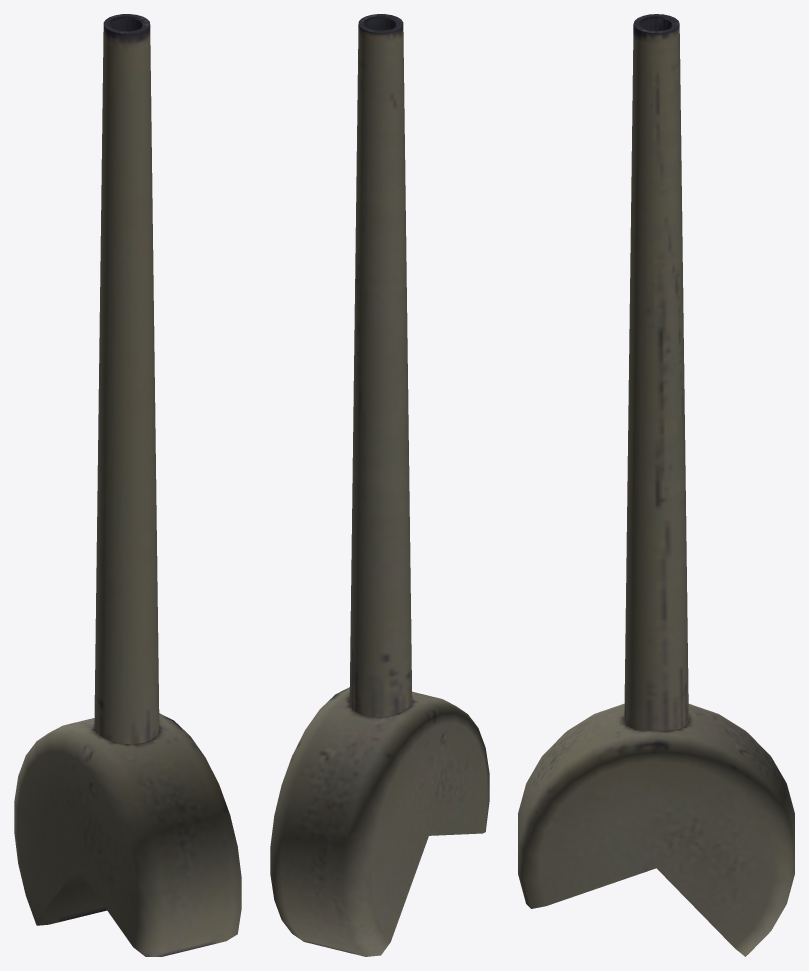
Rendered from Gun_06.glb.
3 views of the same model, side by side, from view 1: azimuth 30°, elevation 25°; view 2: azimuth 150°, elevation 25°; view 3: azimuth 270°, elevation 25° (orthographic). The views are drawn at different scales.
Parts seen in each view (by area): view 1: set_0_group_0; view 2: set_0_group_0; view 3: set_0_group_0.
Boxes of the visible parts, x1,y1,x2,y2 form: set_0_group_0: (14,14,241,956); set_0_group_0: (270,14,489,956); set_0_group_0: (518,14,794,956).
Size of the model in its own units: 0.272 by 2.37 by 0.6497.
1 material, 1 textured.
